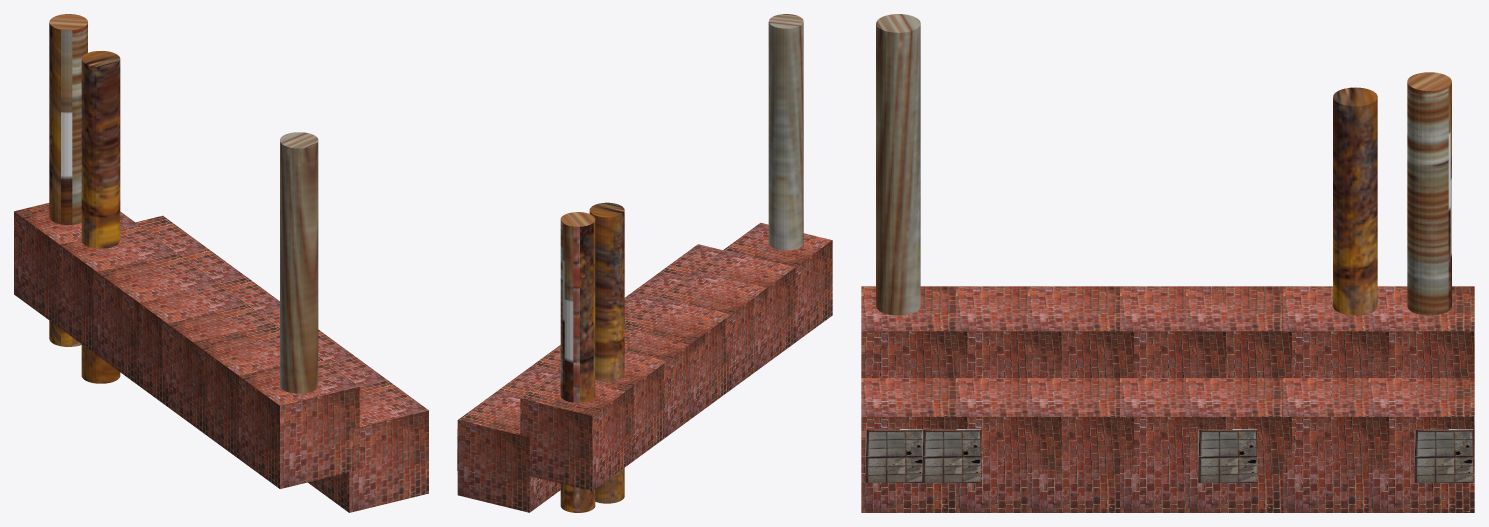
File: Factory2.fbx
The picture shows the model from 3 angles, left to right: view 1: azimuth 30°, elevation 25°; view 2: azimuth 150°, elevation 25°; view 3: azimuth 270°, elevation 25°; orthographic projection. The views are drawn at different scales.
Parts seen in each view (by area): view 1: Cube.010, Cylinder.002, Cube.003, Cylinder, Cylinder.001, Cube.012, Cube.013, Cube.009, Cube.007, Cube.011, Cube.008, Cube.002 (+4 smaller); view 2: Cube.011, Cylinder.002, Cube.002, Cylinder.001, Cylinder, Cube.008, Cube.009, Cube.010, Cube.007, Cube.013, Cube.012, Cube.003 (+3 smaller); view 3: Cylinder.002, Cube, Cube.006, Cylinder.001, Cube.002, Cube.004, Cube.001, Cylinder, Cube.005, Cube.007, Cube.003, Cube.010 (+9 smaller).
Boxes of the visible parts, x1,y1,x2,y2 form: Cube.010: [234, 356, 359, 488]; Cylinder.002: [280, 132, 318, 393]; Cube.003: [308, 380, 428, 512]; Cylinder: [81, 51, 120, 383]; Cylinder.001: [49, 14, 87, 346]; Cube.012: [93, 252, 218, 385]; Cube.013: [51, 225, 175, 351]; Cube.009: [193, 323, 279, 458]; Cube.007: [162, 304, 272, 435]; Cube.011: [14, 203, 139, 327]; Cube.008: [122, 271, 246, 406]; Cube.002: [136, 215, 208, 255]; Cube.011: [520, 369, 633, 491]; Cylinder.002: [768, 14, 803, 250]; Cube.002: [457, 389, 560, 512]; Cylinder.001: [560, 212, 595, 512]; Cylinder: [589, 202, 624, 503]; Cube.008: [624, 297, 731, 419]; Cube.009: [695, 250, 795, 372]; Cube.010: [724, 222, 832, 344]; Cube.007: [659, 270, 767, 389]; Cube.013: [595, 351, 667, 466]; Cube.012: [624, 329, 705, 438]; Cube.003: [661, 244, 722, 277]; Cylinder.002: [876, 14, 920, 315]; Cube: [1283, 378, 1389, 512]; Cube.006: [1028, 378, 1133, 512]; Cylinder.001: [1407, 72, 1451, 315]; Cube.002: [1368, 378, 1474, 512]; Cube.004: [956, 378, 1061, 512]; Cube.001: [1186, 378, 1291, 512]; Cylinder: [1333, 87, 1377, 315]; Cube.005: [1120, 378, 1225, 512]; Cube.007: [1028, 286, 1133, 377]; Cube.003: [861, 378, 967, 512]; Cube.010: [861, 286, 967, 377].
Size of the model in its own units: 893 by 2167 by 2746.
